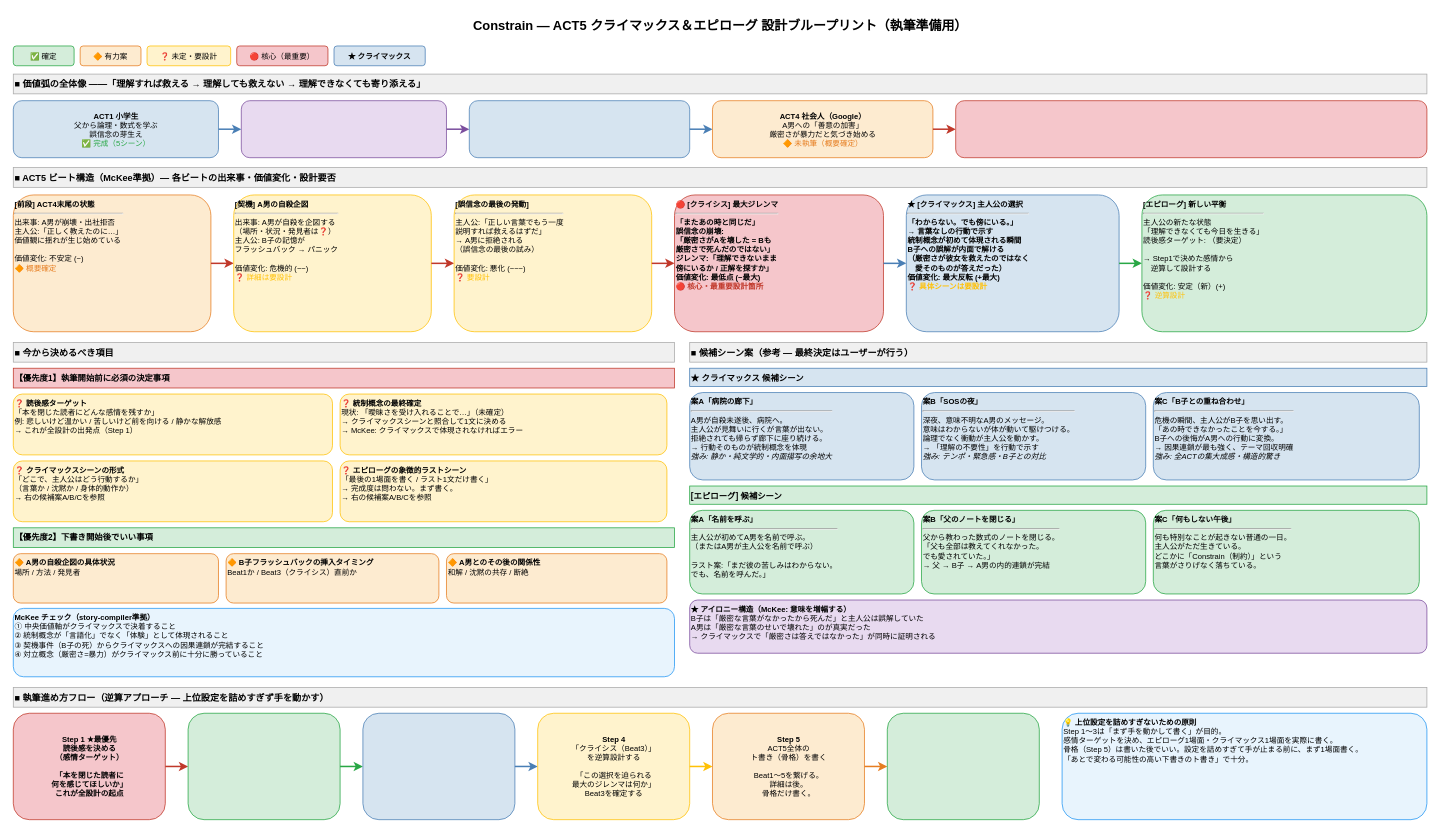
Image size: 1440x833. Some labels were removed from this diagram. The shapes that lost their labels are listed below. From the top down, each one's centre as x and y in pixels, then its label:
point (343, 129): ACT2 中学 B子と出会い / B子の自死 「厳密さで救えた」という誤解 ✅ 完成（5シーン）
point (579, 129): ACT3 灘〜東大 エリートで適応 /「厳密＝救済」確信 「B子をここに連れてこれれば」後悔 🔶 未執筆（概要確定）
point (1191, 129): ACT5 クライマックス〜エピローグ A男の自殺企図 / B子の記憶と対峙 「理解できなくても愛せる」への到達 🔴 これから設計 ← いまここ
point (263, 766): Step 2 エピローグの ラスト1場面を書く 完成度は問わない。 案A/B/Cを参考に まず書いてみる
point (438, 766): Step 3 クライマックスの 「選択の瞬間」を書く 1シーンだけ。 全体構成は後でいい。 案A/B/Cを参考に
point (963, 766): Step 6 黒田に渡す （Draft for Kuroda） フィードバックを受けて 詳細シーンを 肉付けしていく
